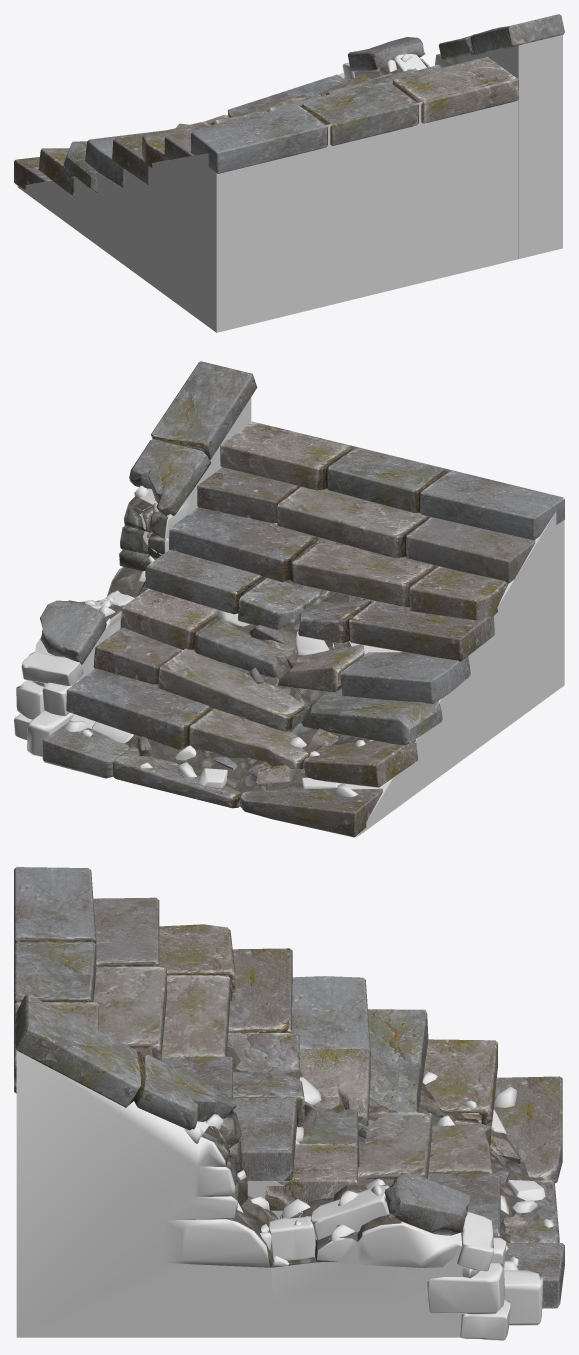
3 renders of one model, top to bottom at view 1: azimuth 30°, elevation 25°; view 2: azimuth 150°, elevation 25°; view 3: azimuth 270°, elevation 25°, orthographic. The views are drawn at different scales.
Parts seen in each view (by area): view 1: SM_DR_Steps_4x2_01_v2_DMG_LOD0; view 2: SM_DR_Steps_4x2_01_v2_DMG_LOD0; view 3: SM_DR_Steps_4x2_01_v2_DMG_LOD0.
Boxes of the visible parts, left/top/right/bottom form: SM_DR_Steps_4x2_01_v2_DMG_LOD0: left=14, top=14, right=564, bottom=332; SM_DR_Steps_4x2_01_v2_DMG_LOD0: left=14, top=361, right=564, bottom=837; SM_DR_Steps_4x2_01_v2_DMG_LOD0: left=14, top=866, right=564, bottom=1340.
Bounding box in the file's own units: 4.15 × 2.6 × 4.1.
3 materials, 2 textured.
